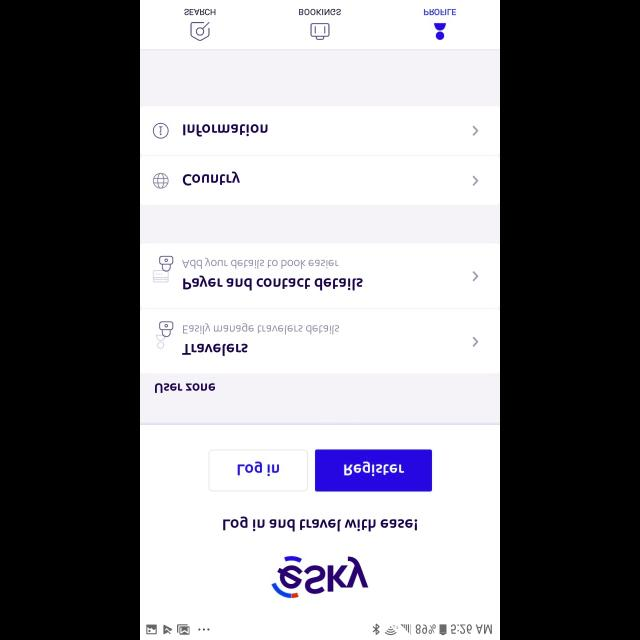icon: (153, 255, 174, 282), (156, 321, 174, 349), (190, 22, 210, 42), (310, 23, 330, 41), (153, 123, 169, 139), (434, 23, 446, 41), (472, 270, 480, 282), (472, 337, 480, 348), (473, 124, 479, 136), (473, 176, 479, 187)
image: (271, 554, 369, 598), (153, 173, 169, 189)
text: (223, 516, 417, 532), (184, 275, 364, 291), (182, 257, 340, 269), (183, 323, 339, 335), (184, 124, 268, 136), (183, 170, 241, 186), (182, 344, 248, 356), (156, 382, 217, 393), (299, 8, 341, 15), (184, 8, 216, 15), (424, 8, 456, 15)
textbutton: (316, 449, 432, 491), (210, 449, 308, 491)
uppertaskbar: (140, 622, 500, 640)
